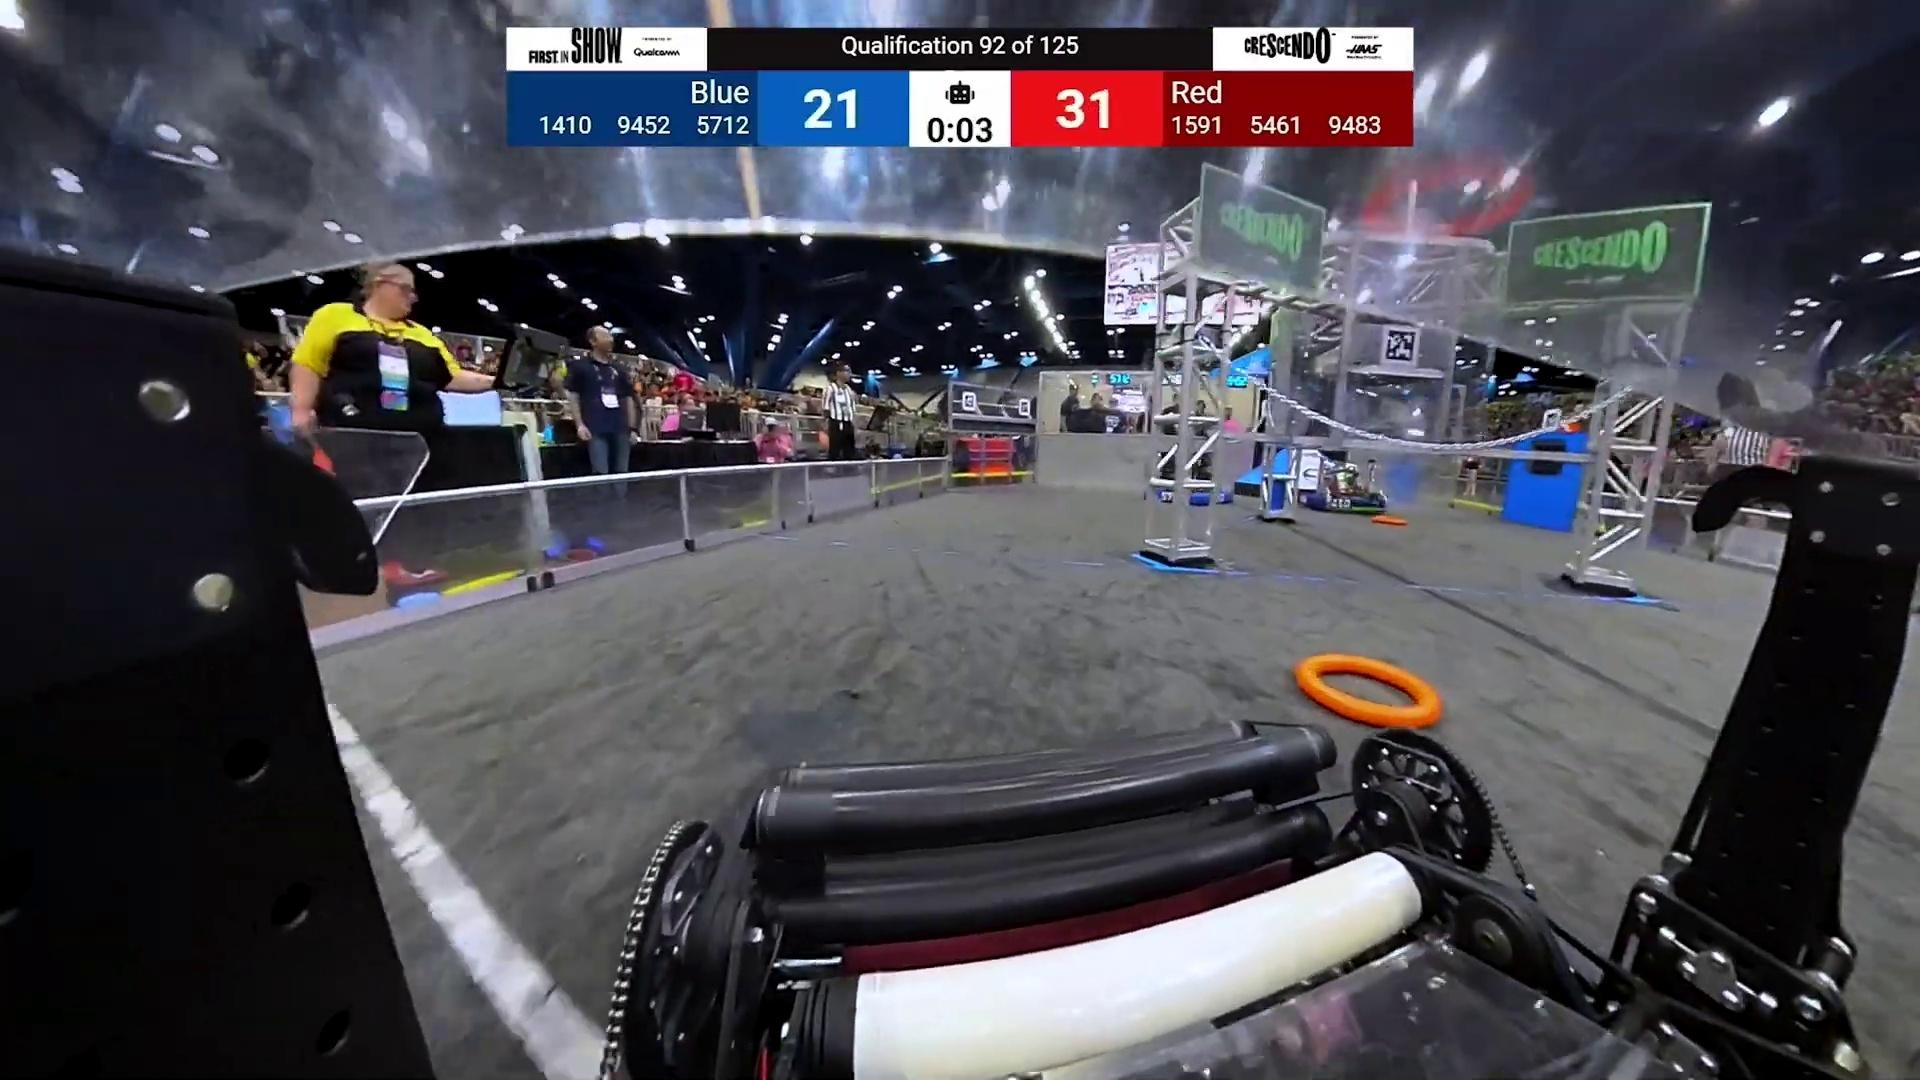robot: (1298, 456, 1387, 513), (1143, 451, 1232, 506)
